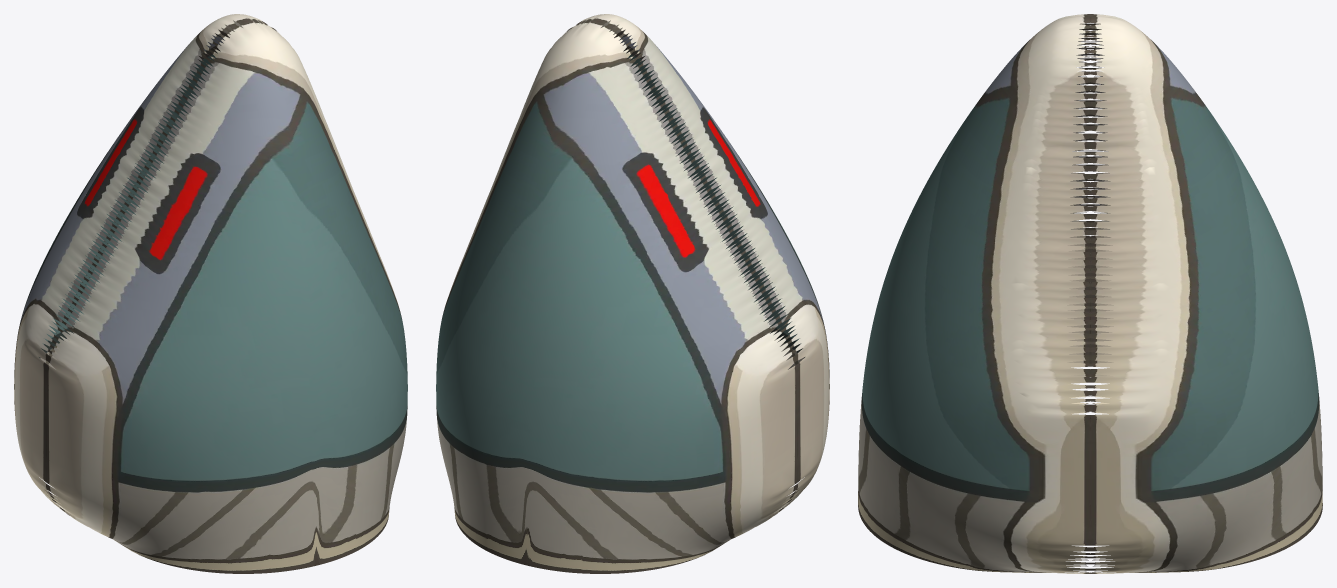
File: side_access_console.glb
3 views of the same model, side by side, from view 1: azimuth 30°, elevation 25°; view 2: azimuth 150°, elevation 25°; view 3: azimuth 270°, elevation 25° (orthographic). The views are drawn at different scales.
Parts seen in each view (by area): view 1: side_access_console; view 2: side_access_console; view 3: side_access_console.
Part boxes in pixels (box(x1,y1,x2,y2)): side_access_console: box(14, 14, 407, 573); side_access_console: box(436, 14, 829, 573); side_access_console: box(858, 14, 1322, 573).
Bounding box in the file's own units: 0.9854 × 1.31 × 1.09.
1 material, 1 textured.
